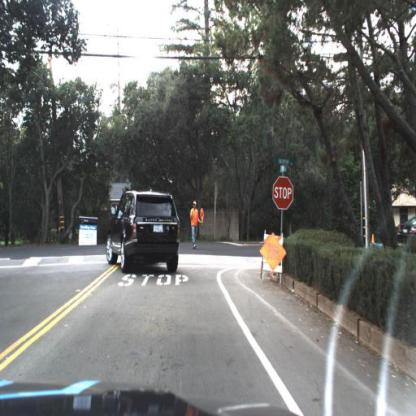car: (107, 192, 182, 276)
pedestrian: (189, 200, 205, 249)
